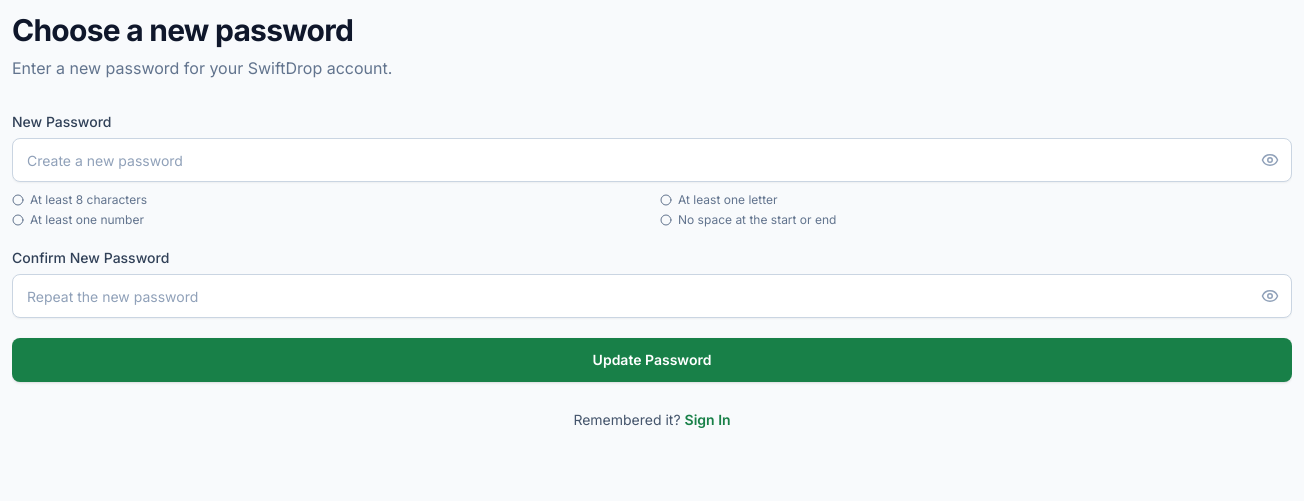
Scenario: ResetPasswordPage › sends the token from the link with the new password, then confirms
The image size is (1304, 501).
In the password field labelled "New Password": (652, 160) [12,138,1292,182], type "newpass2026"
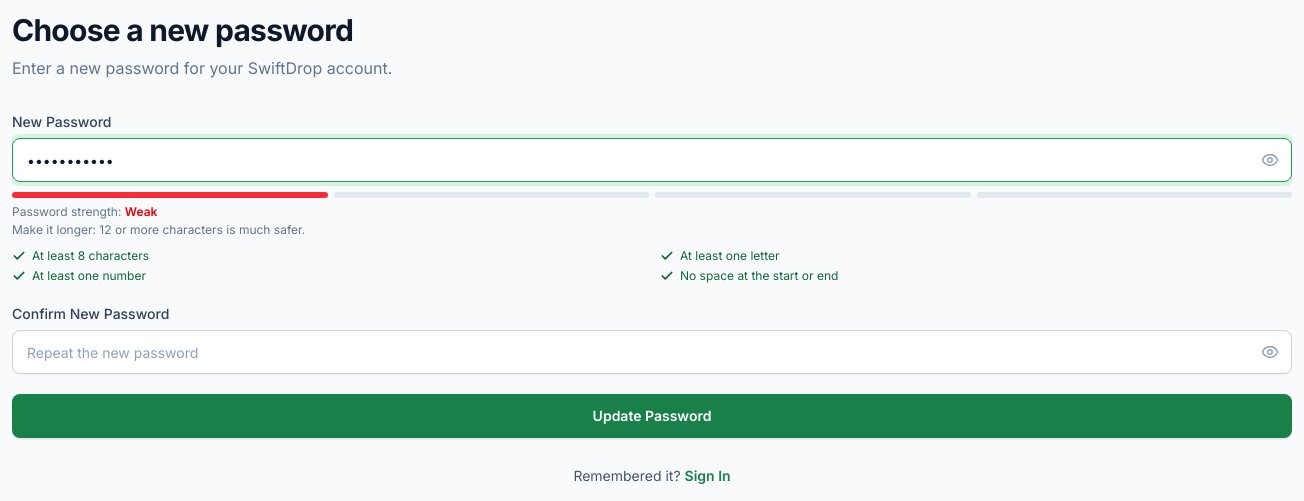
In the password field labelled "Confirm New Password": (652, 352) [12,330,1292,374], type "newpass2026"
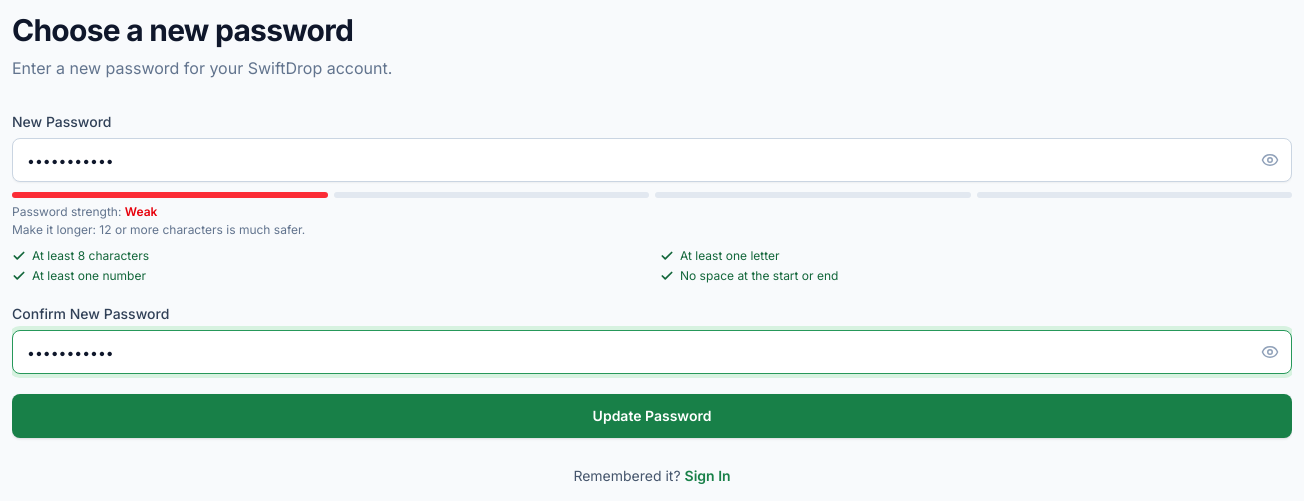
Click the button "Update Password": (652, 416) [12,394,1292,438]
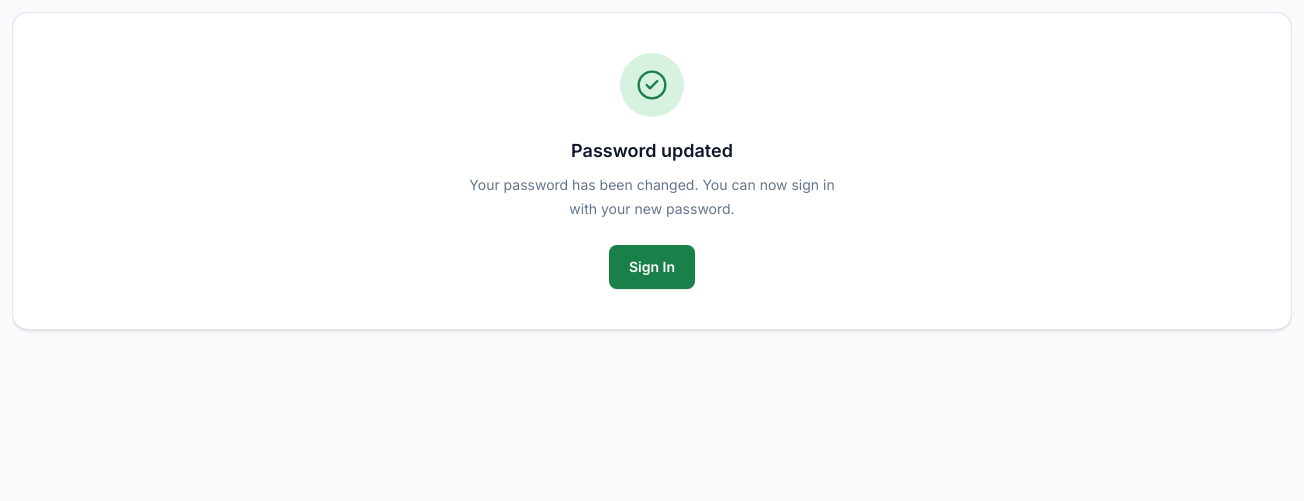
Expected: the heading "Password updated" is shown, [571,137,733,165]
